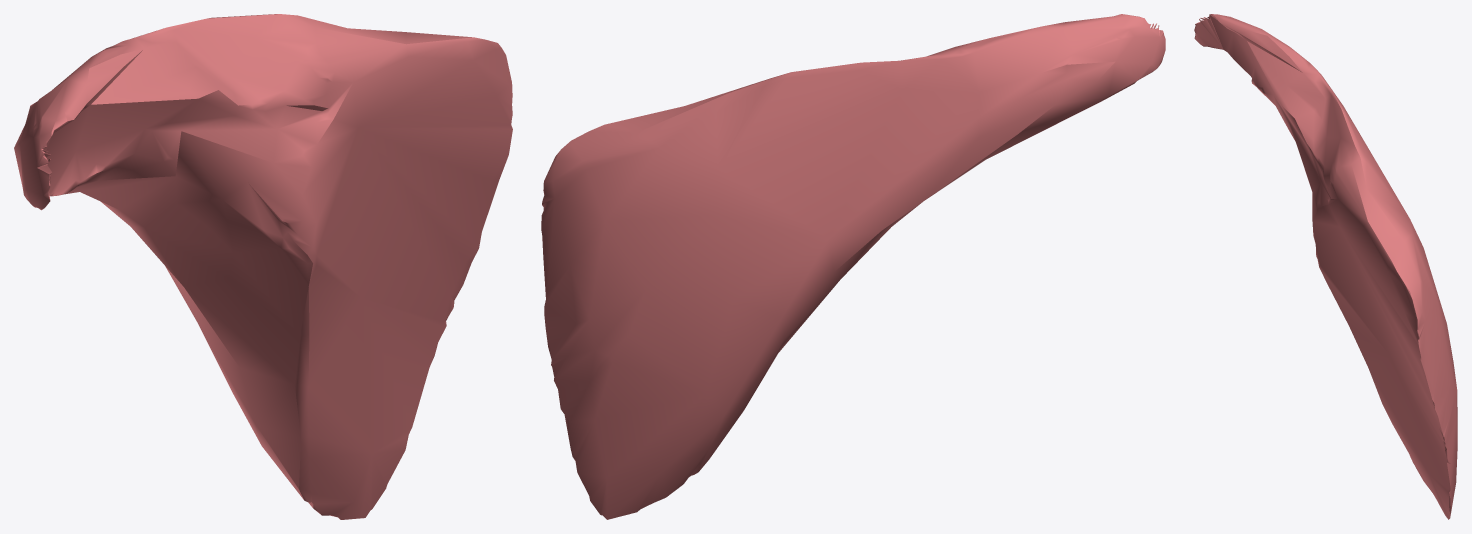
3 renders of one model, left to right at view 1: azimuth 30°, elevation 25°; view 2: azimuth 150°, elevation 25°; view 3: azimuth 270°, elevation 25°, orthographic. The views are drawn at different scales.
Parts seen in each view (by area): view 1: FJ1500; view 2: FJ1500; view 3: FJ1500.
Boxes of the visible parts, bbox=[...] form: FJ1500: bbox=[14, 14, 512, 519]; FJ1500: bbox=[541, 14, 1165, 519]; FJ1500: bbox=[1194, 14, 1457, 519].
Bounding box in the file's own units: 0.1281 × 0.1238 × 0.0803.
